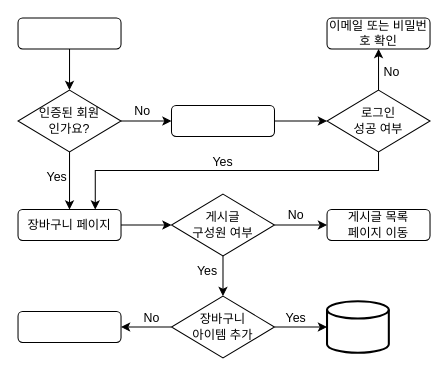
Some shapes in this 448 by 376 pixel diagram are drawn without their labels. Here are the shapes that lost their labels. From the top down, the centre of each, then its label:
At (x=69, y=33): "start".
At (x=222, y=120): "로그인 페이지 이동".
At (x=69, y=326): "아이템 등록 내용 확인".
At (x=357, y=326): "아이템 저장".
